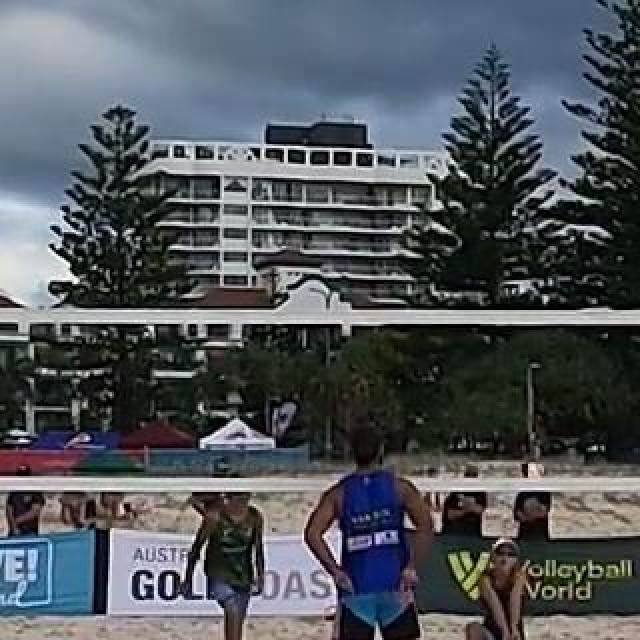volleyball: (517, 460, 547, 488)
